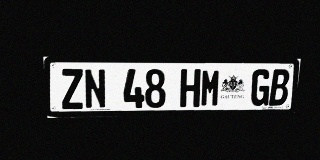4: (123, 69, 144, 108)
8: (145, 69, 166, 108)
B: (269, 69, 290, 106)
G: (250, 69, 271, 106)
H: (180, 69, 201, 107)
M: (200, 69, 221, 107)
N: (83, 69, 107, 109)
Z: (60, 69, 84, 109)
